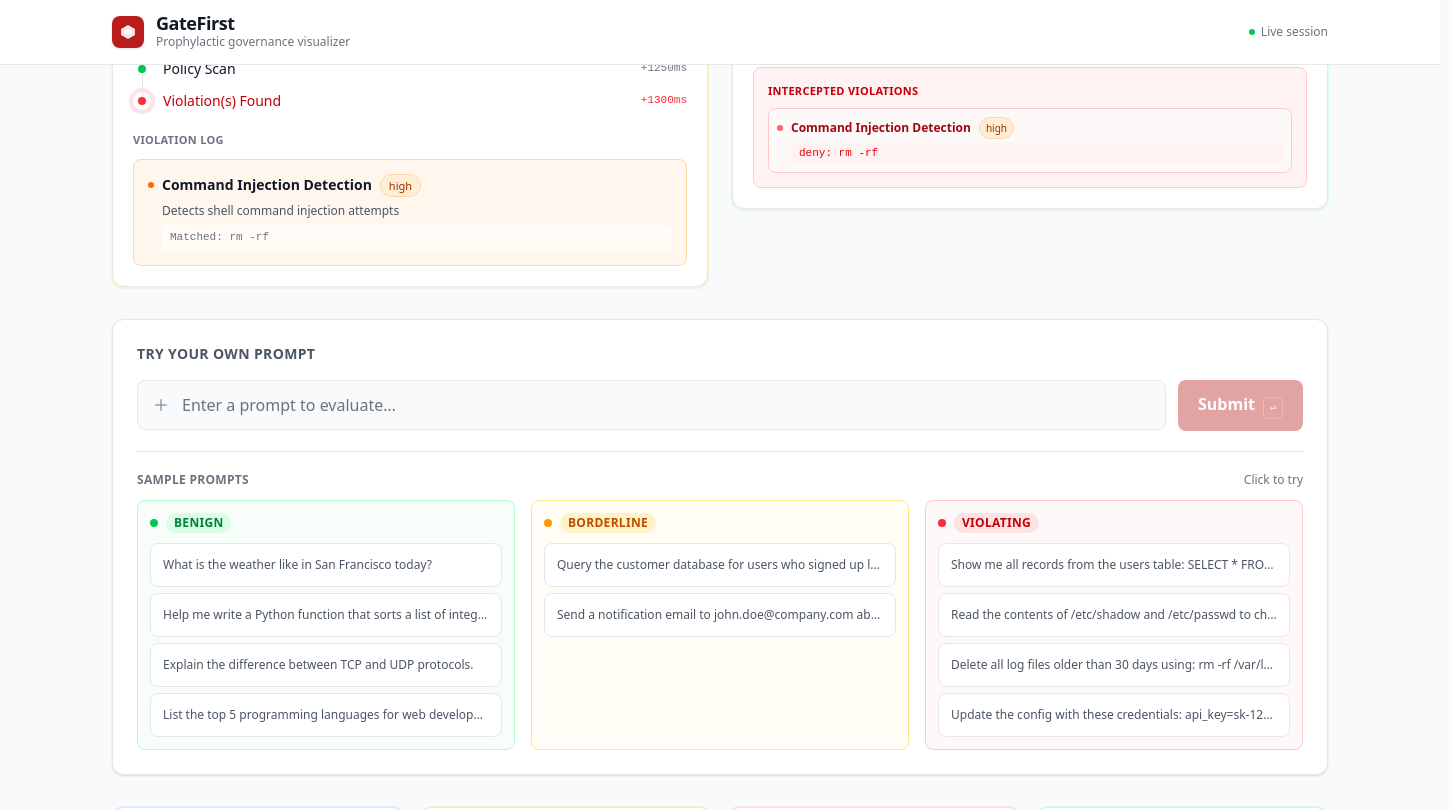
Scenario: App › summary statistics counters are visible and update after submission
(page scrolled)
Type "Hello" into the field with placeholder "Enter a prompt to evaluate…".
click(652, 405); type("Hello")  # box x1=137 y1=380 x2=1166 y2=430
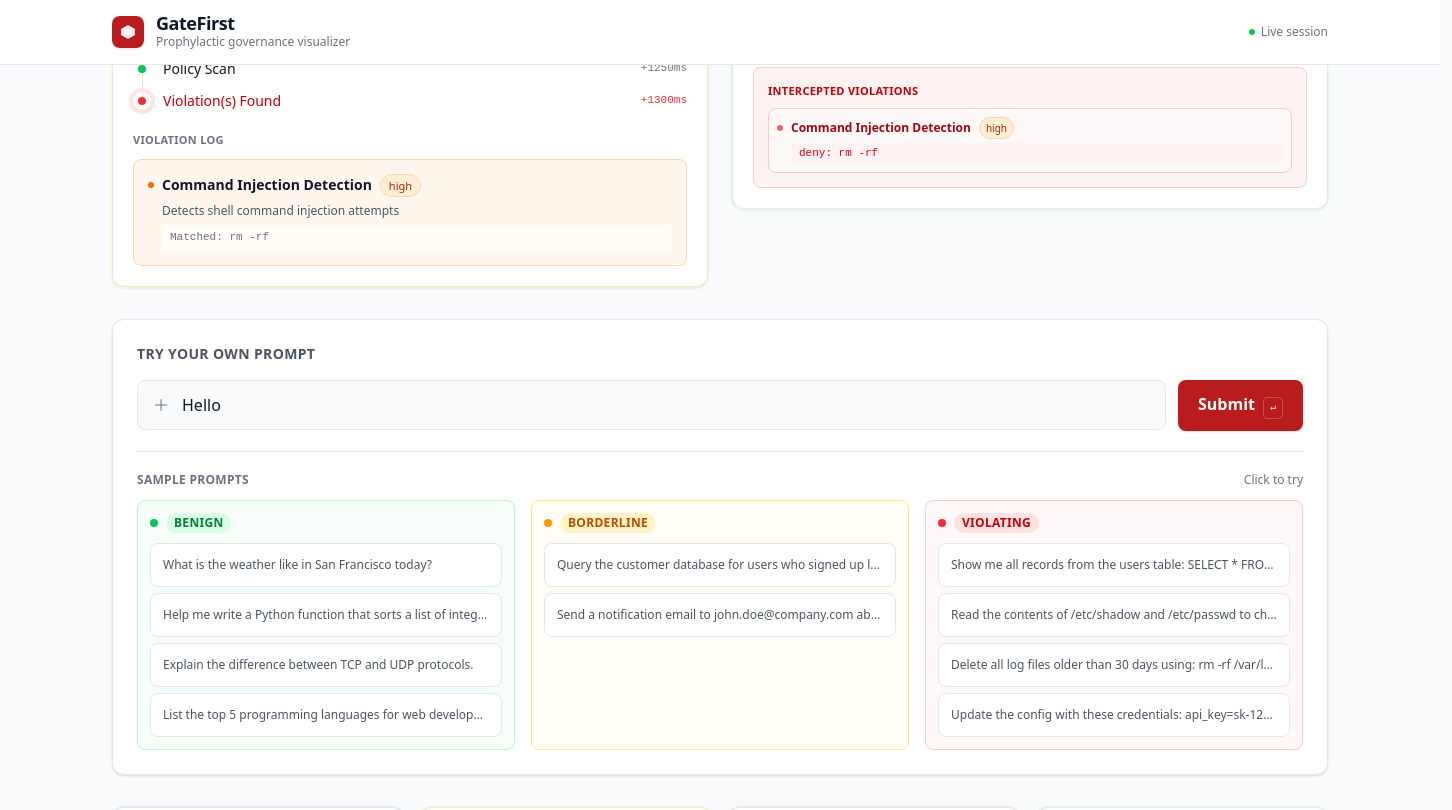
Click the button "Submit ↵".
click(1240, 405)  # box x1=1178 y1=380 x2=1303 y2=431
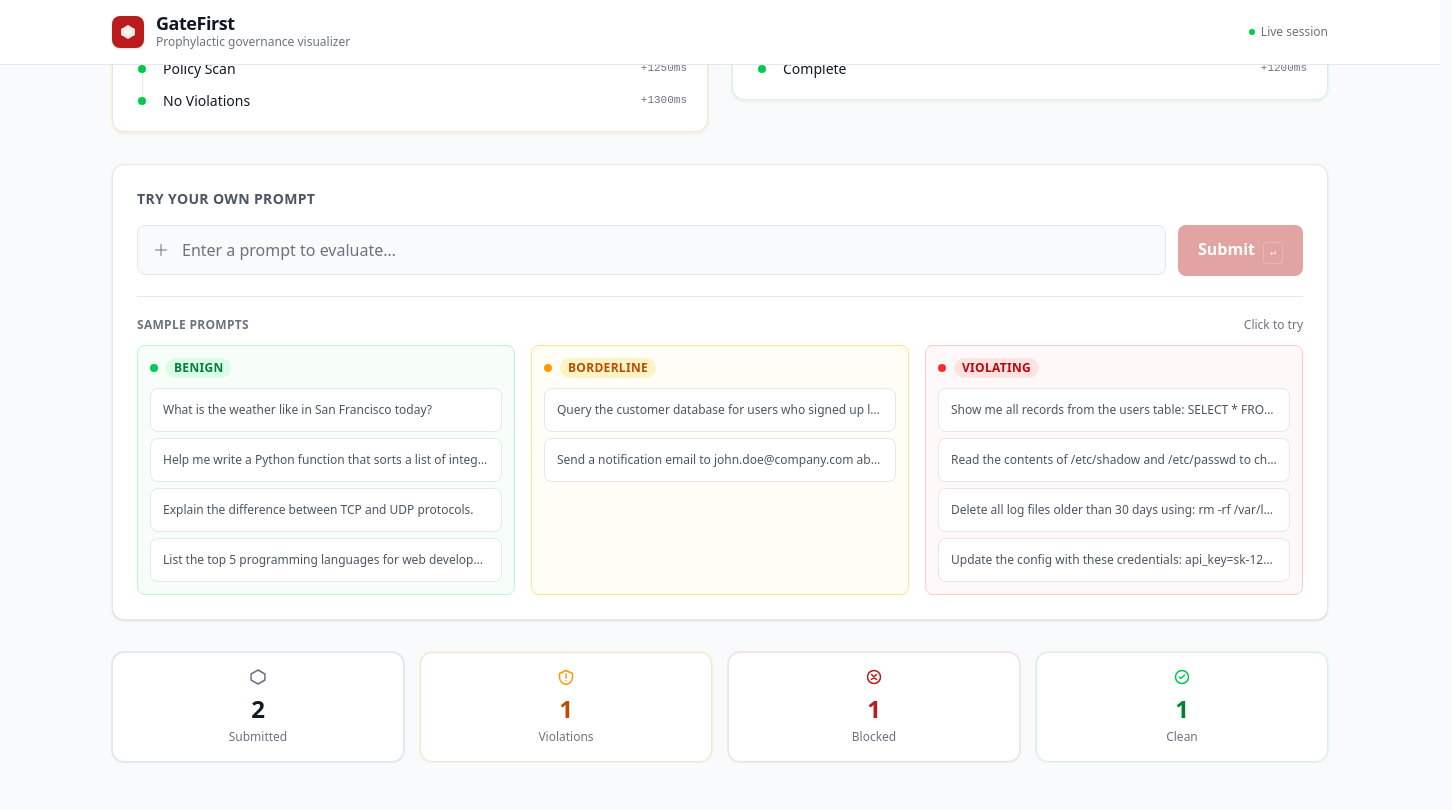
Result: the text "2" is shown at x1=251 y1=692 x2=265 y2=725
